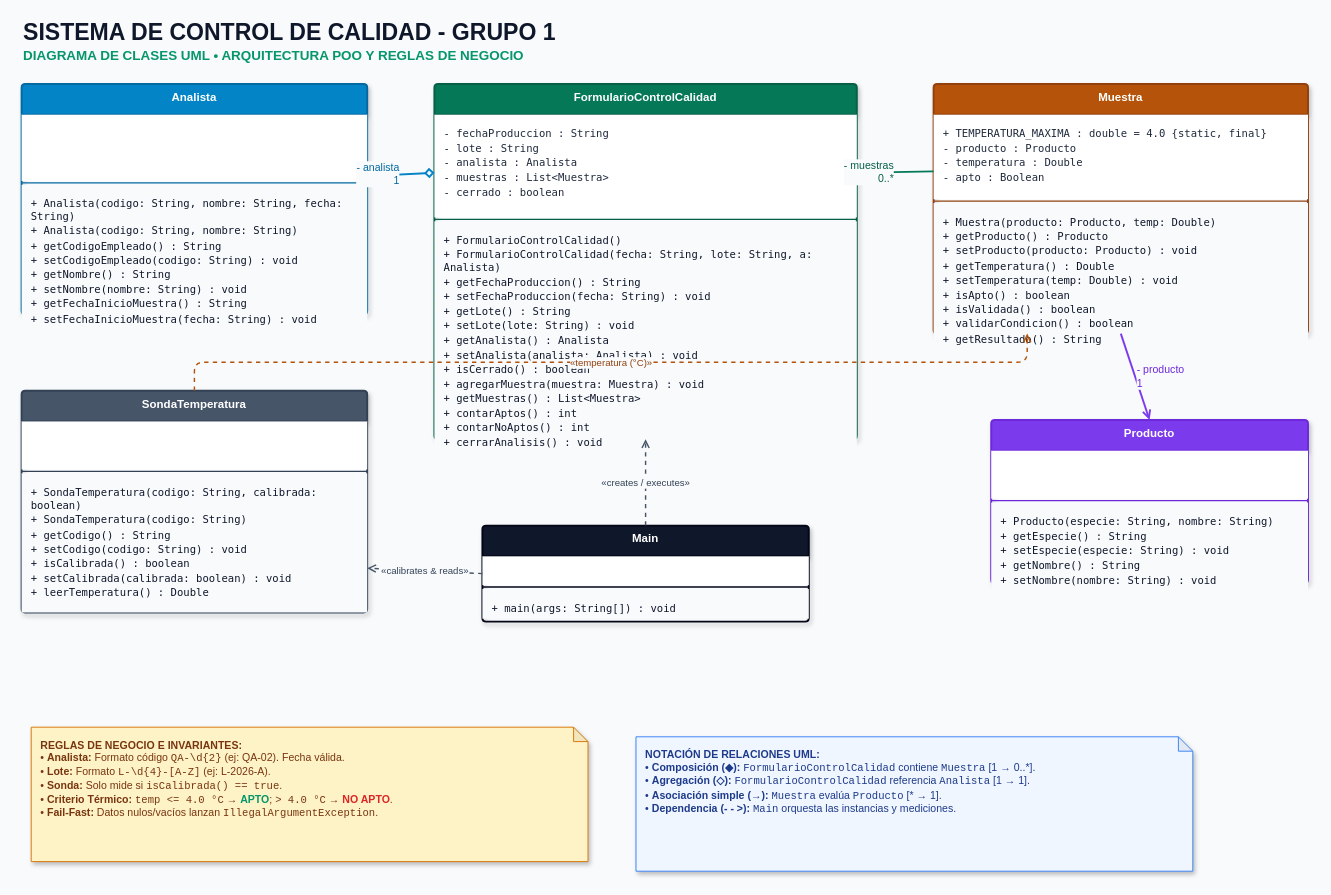
This 1331x895 diagram has some shape labels left out. The centre of each missing label's shape, as x and y in pixels:
- codigo : String - calibrada : boolean: the point at 194,445
- codigoEmpleado : String - nombre : String - fechaInicioMuestra : String: the point at 194,147
- especie : String - nombre : String: the point at 1149,474
